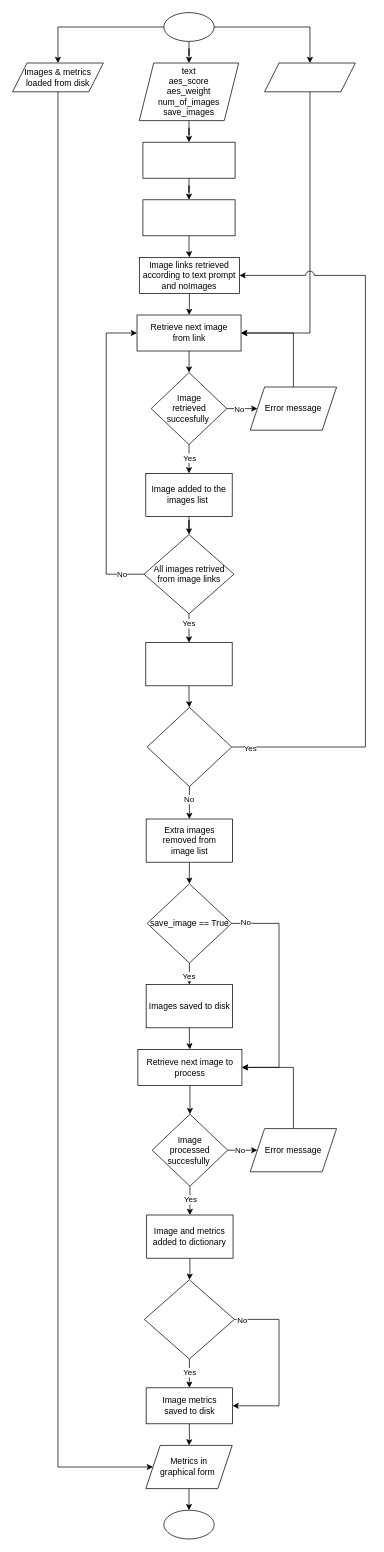
Some shapes in this 384 by 1552 pixel diagram are drawn without their labels. Here are the shapes that lost their labels. From the top down, the box of each, then its label:
(163, 12, 214, 41): Start
(264, 62, 355, 92): Images loaded from disk
(142, 141, 235, 178): ClipClient connects to Laion-5B dataset
(142, 199, 235, 236): noImages = num_of_images * 2
(145, 642, 232, 686): noImages = noImage * 2
(146, 707, 232, 787): len(images) < num_of_images
(144, 1279, 234, 1359): save_metrics == True
(163, 1509, 214, 1539): End
